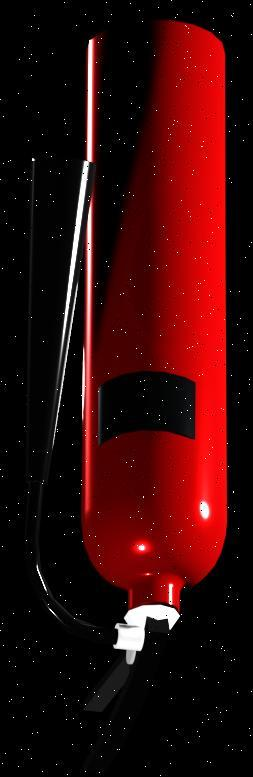Fire Extinguisher: (26, 18, 246, 734)
